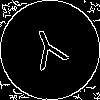Y: (25, 25, 74, 80)
